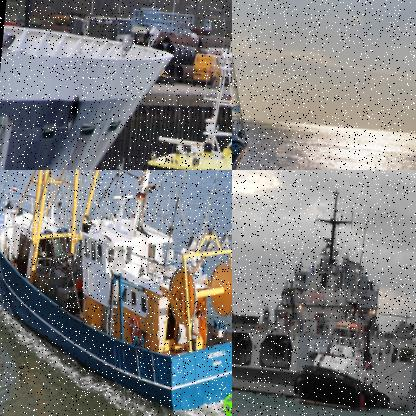Fishing Boat: (0, 170, 231, 415)
Military Ship: (232, 173, 415, 415), (0, 23, 177, 169)
Patrol Boat: (95, 24, 231, 169), (292, 297, 398, 414)
